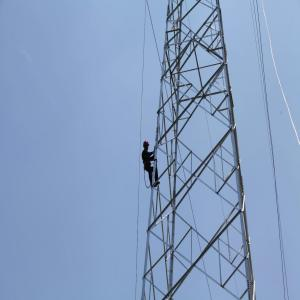red: (143, 141, 150, 151)
